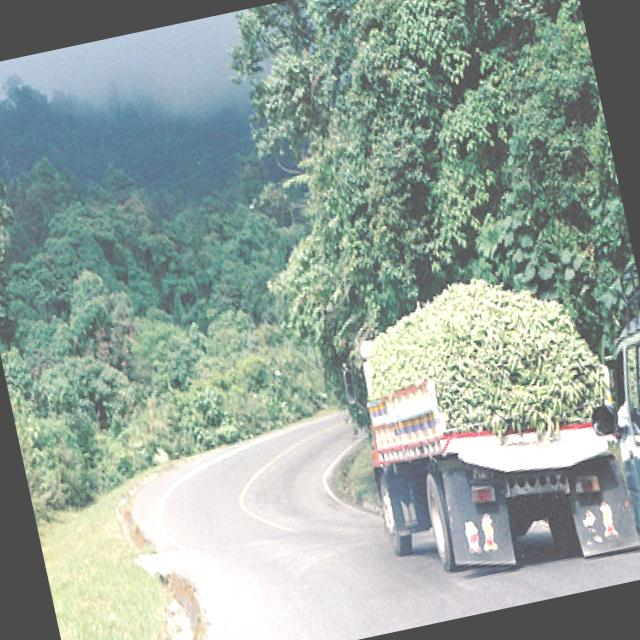Vehicle: (356, 346, 640, 603), (578, 248, 640, 577)
